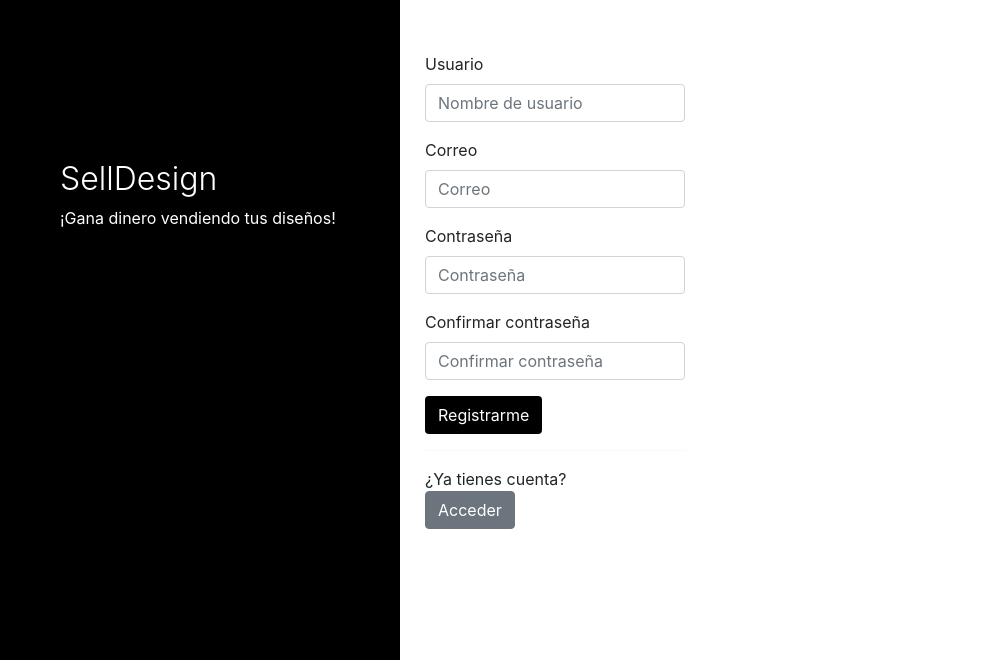
Scenario: RegisterComponent › No deja Registrar sin campos
This screenshot has width=1000, height=660.
Click the button with class "btn-black". click: (484,415)
box: 425,396 -> 542,434
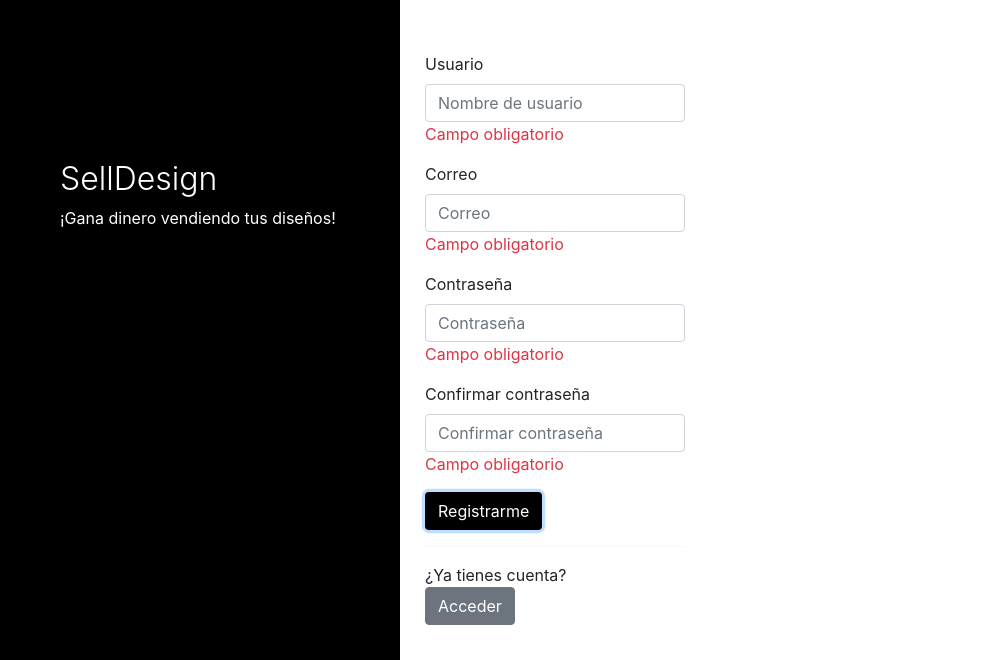
Result: the text "Campo obligatorio" below "Usuario" is shown at 425,124 -> 564,144
